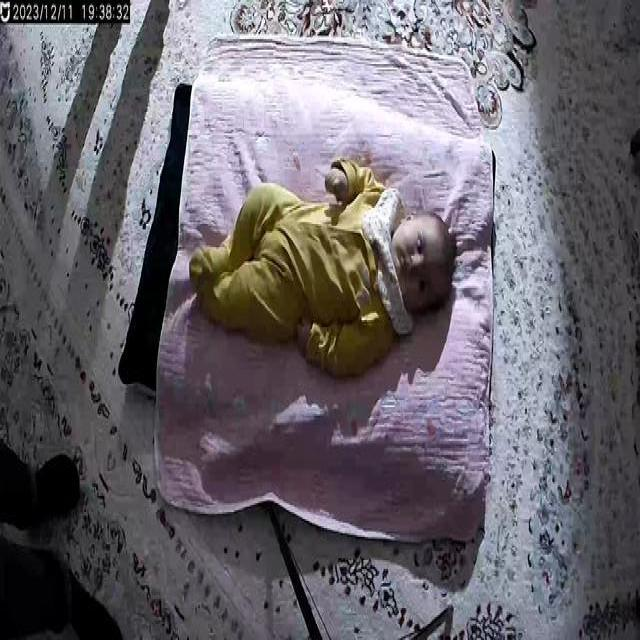baby: (188, 152, 461, 385)
